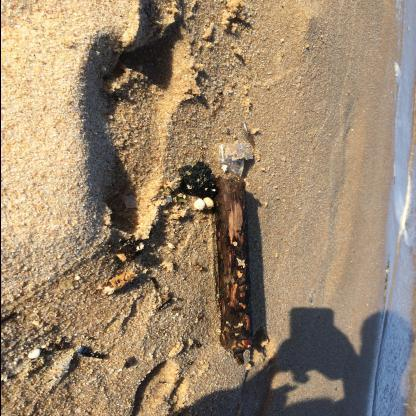plastik: (218, 144, 253, 179)
